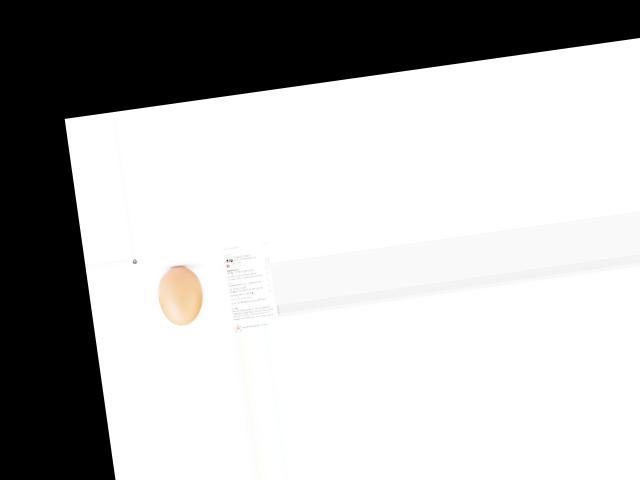egg: (155, 263, 206, 327)
